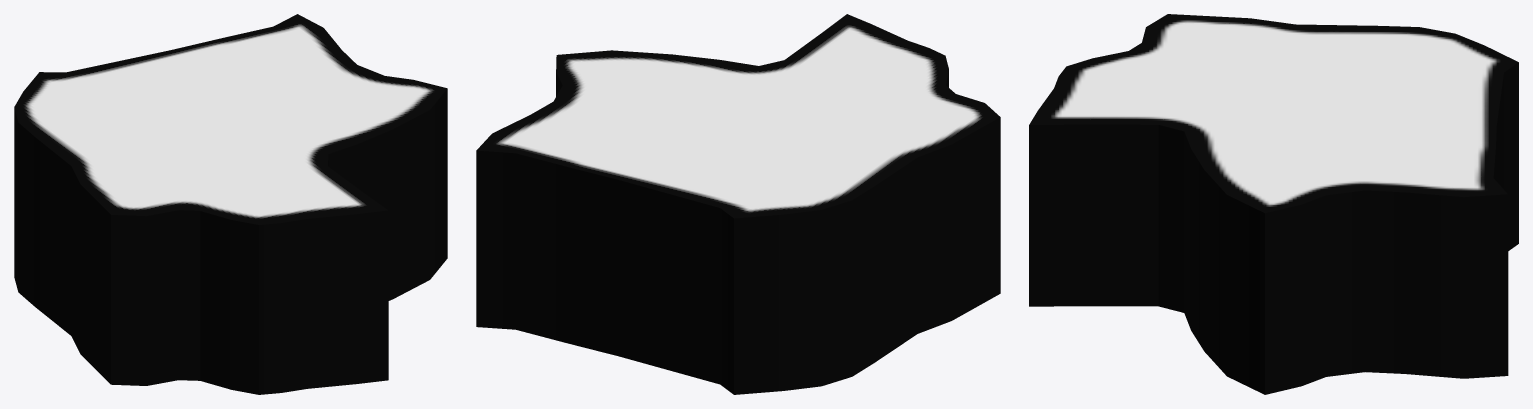
The picture shows the model from 3 angles, left to right: view 1: azimuth 30°, elevation 25°; view 2: azimuth 150°, elevation 25°; view 3: azimuth 270°, elevation 25°; orthographic projection. The views are drawn at different scales.
Visible parts, largest first — view 1: polySurface15; view 2: polySurface15; view 3: polySurface15.
Boxes of the visible parts, left/top/right/bottom form: polySurface15: left=14, top=14, right=447, bottom=394; polySurface15: left=476, top=14, right=1000, bottom=394; polySurface15: left=1029, top=14, right=1518, bottom=394.
Bounding box in the file's own units: 1.18 × 0.5 × 1.22.
